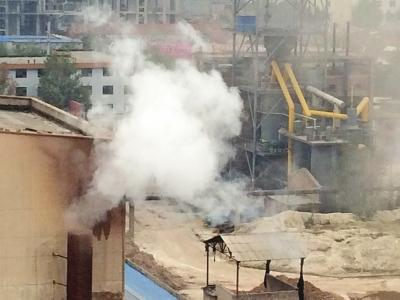dust: (53, 73, 240, 244)
